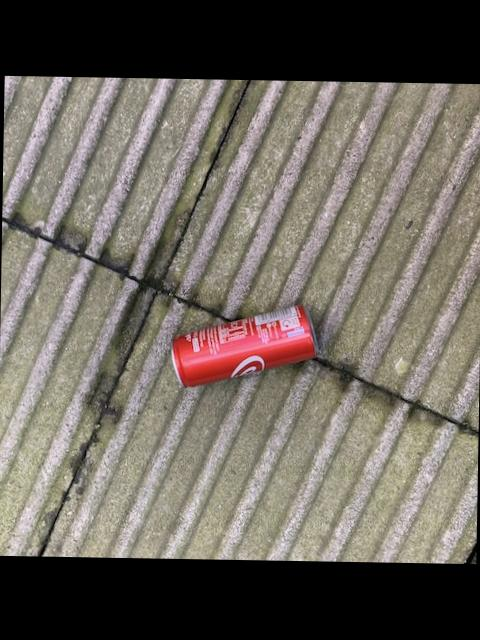metal: (172, 307, 317, 388)
